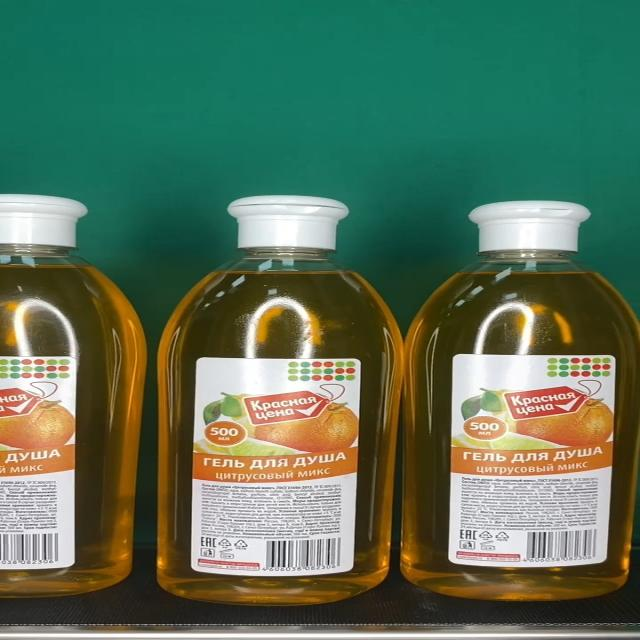Bottle: (157, 196, 403, 606), (401, 200, 640, 601)
Cap: (468, 200, 592, 253), (227, 196, 349, 249)
